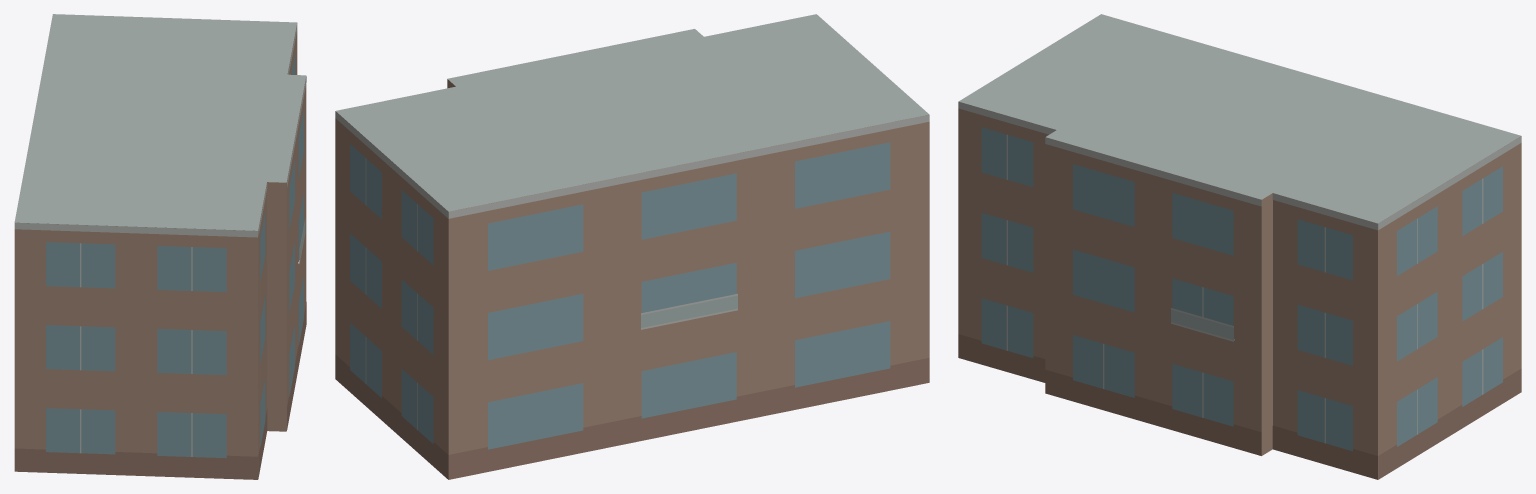
The model's file is survey-upis-32911646.glb.
3 renders of one model, left to right at view 1: azimuth 30°, elevation 25°; view 2: azimuth 150°, elevation 25°; view 3: azimuth 270°, elevation 25°, orthographic. The views are drawn at different scales.
Parts seen in each view (by area): view 1: survey-upis-32911646.tmp; view 2: survey-upis-32911646.tmp; view 3: survey-upis-32911646.tmp.
Part boxes in pixels (x1,y1,x2,y2): survey-upis-32911646.tmp: (14,14,306,479); survey-upis-32911646.tmp: (335,14,929,479); survey-upis-32911646.tmp: (958,14,1521,479).
Size of the model in its own units: 16.05 by 9.15 by 18.23.
